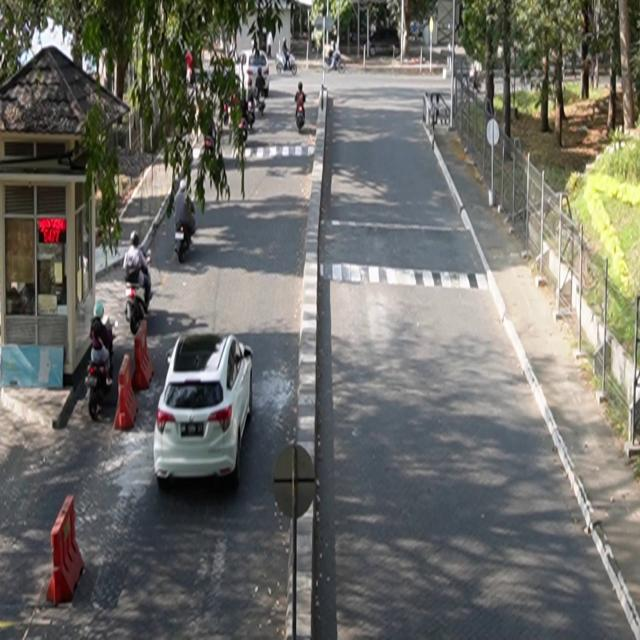car: (154, 331, 254, 487)
